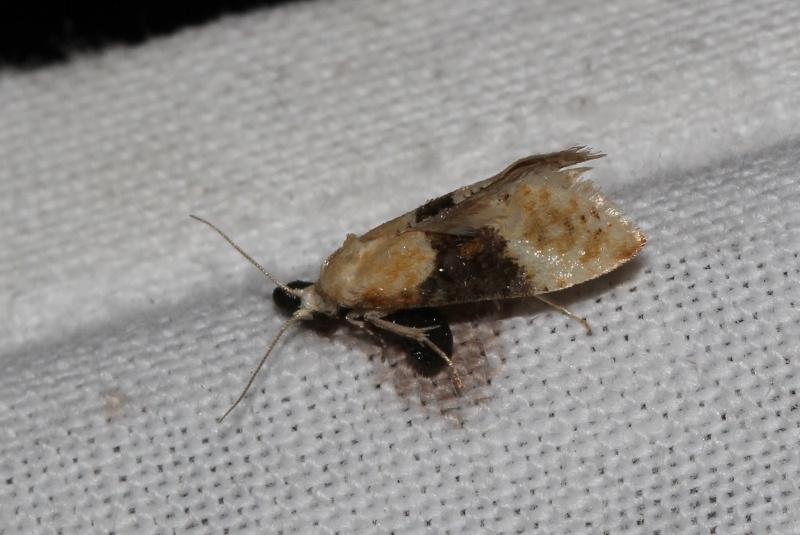Eupoecilia Ambiguella: (186, 140, 649, 424)
